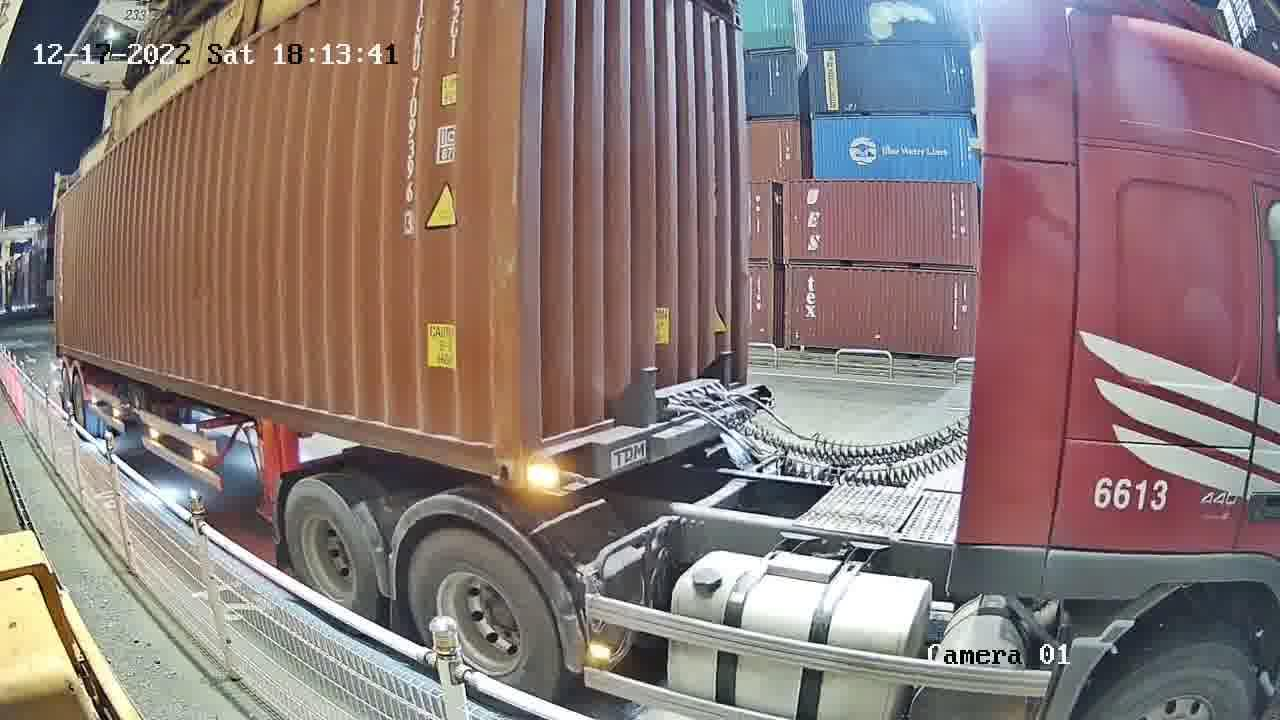Chassis: (525, 381, 775, 500)
Hole_R: (469, 419, 522, 487)
Tire: (410, 534, 565, 703), (283, 482, 377, 617)
